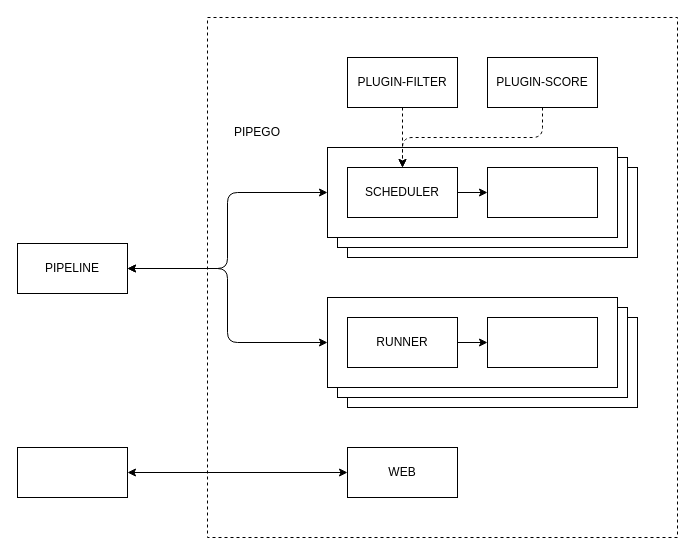
The diagram is 695 pixels wide and 555 high, and some of its shapes have lost their labels. Each missing label, with the centre of its shape:
"BROWSER" belongs at (72,472).
"NODE" belongs at (542,192).
"TASK" belongs at (542,342).
